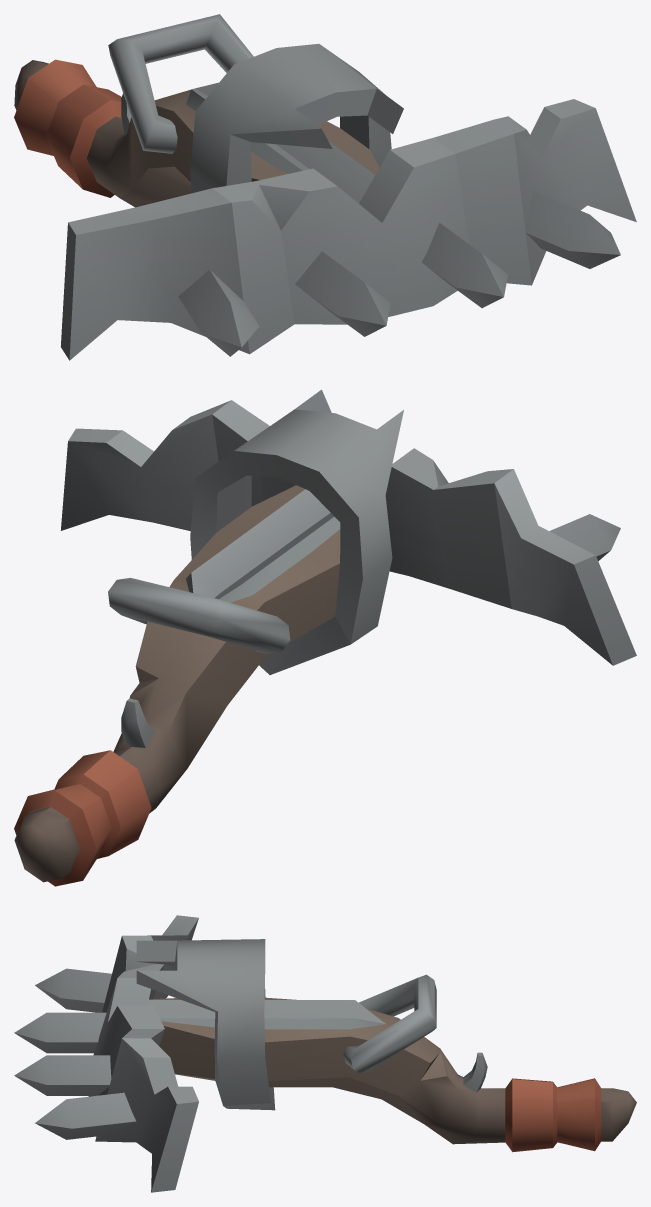
The model's file is weapon_sk_crossbow.glb.
3 views of the same model, one above another, from view 1: azimuth 30°, elevation 25°; view 2: azimuth 150°, elevation 25°; view 3: azimuth 270°, elevation 25° (orthographic). The views are drawn at different scales.
Parts seen in each view (by area): view 1: Skeleton_Crossbow; view 2: Skeleton_Crossbow; view 3: Skeleton_Crossbow.
Part boxes in pixels (left/top/right/bottom): Skeleton_Crossbow: left=14, top=14, right=636, bottom=360; Skeleton_Crossbow: left=14, top=389, right=636, bottom=886; Skeleton_Crossbow: left=14, top=915, right=636, bottom=1192.
Bounding box in the file's own units: 1.11 × 0.5082 × 1.42.
1 material, 1 textured.
